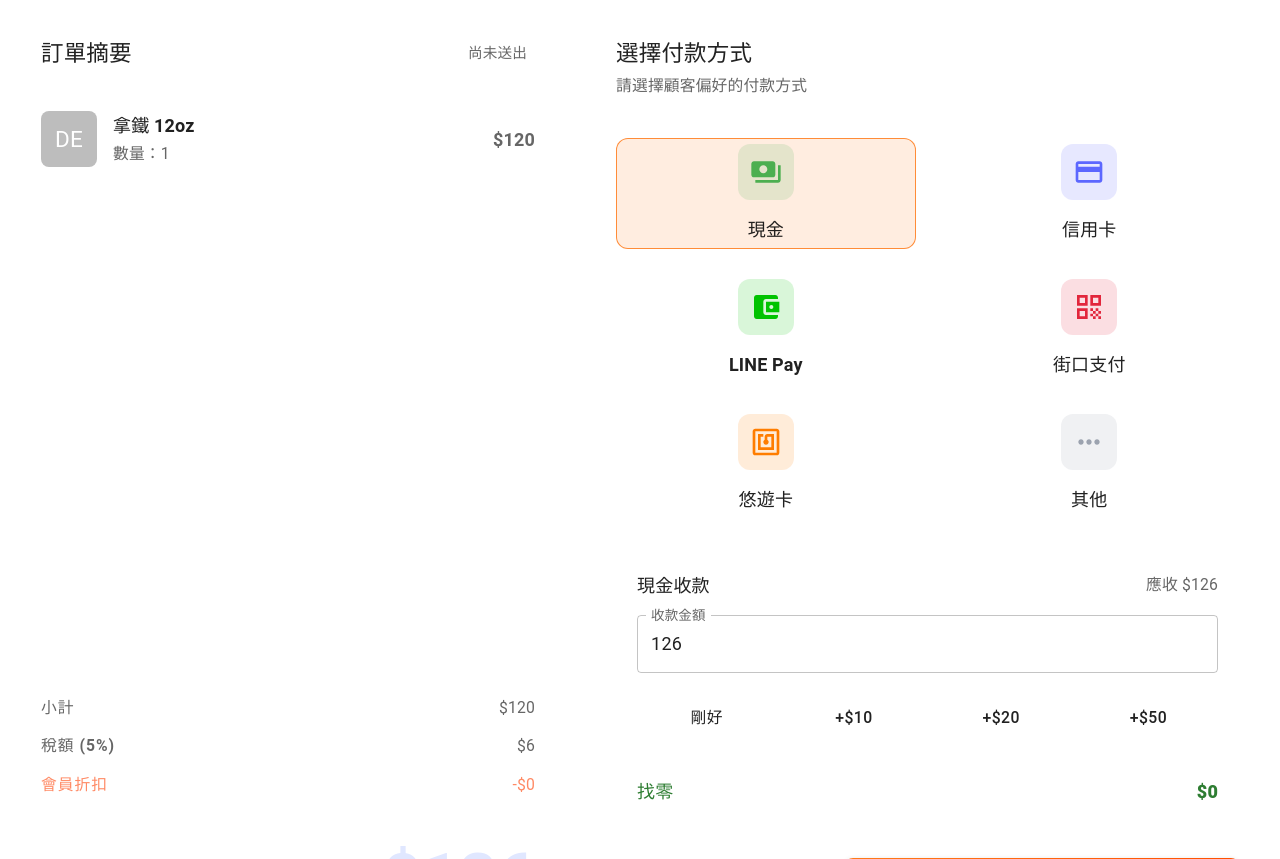
CheckoutPage cash payment › creates and completes an order with CASH tendered amount and clears the cart
The width and height of the screenshot is (1280, 859).
Replace the text in the number field labelled "收款金額" with "130" at (928, 644), box [637, 614, 1218, 673]
(page scrolled)
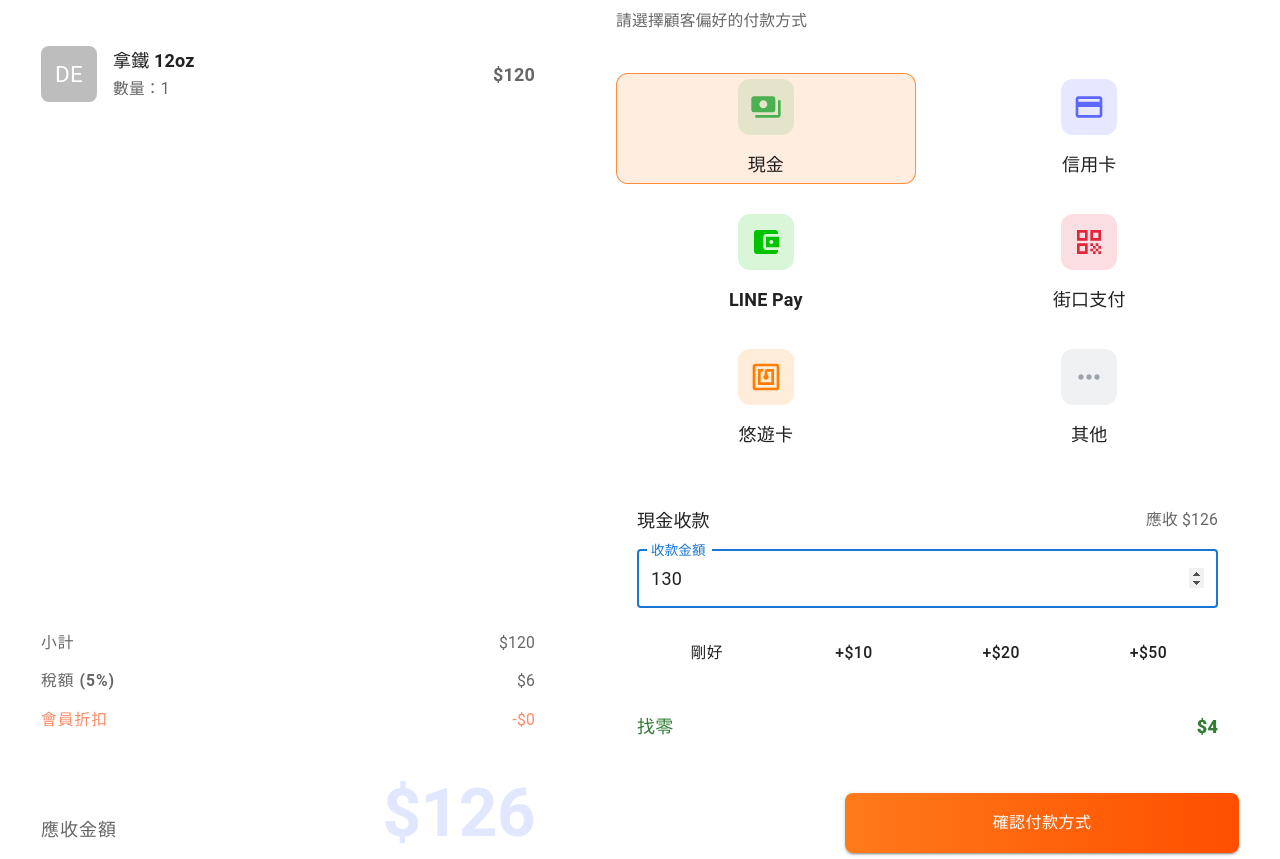
Click the button "確認付款方式" at (1042, 823), box [845, 793, 1239, 853]
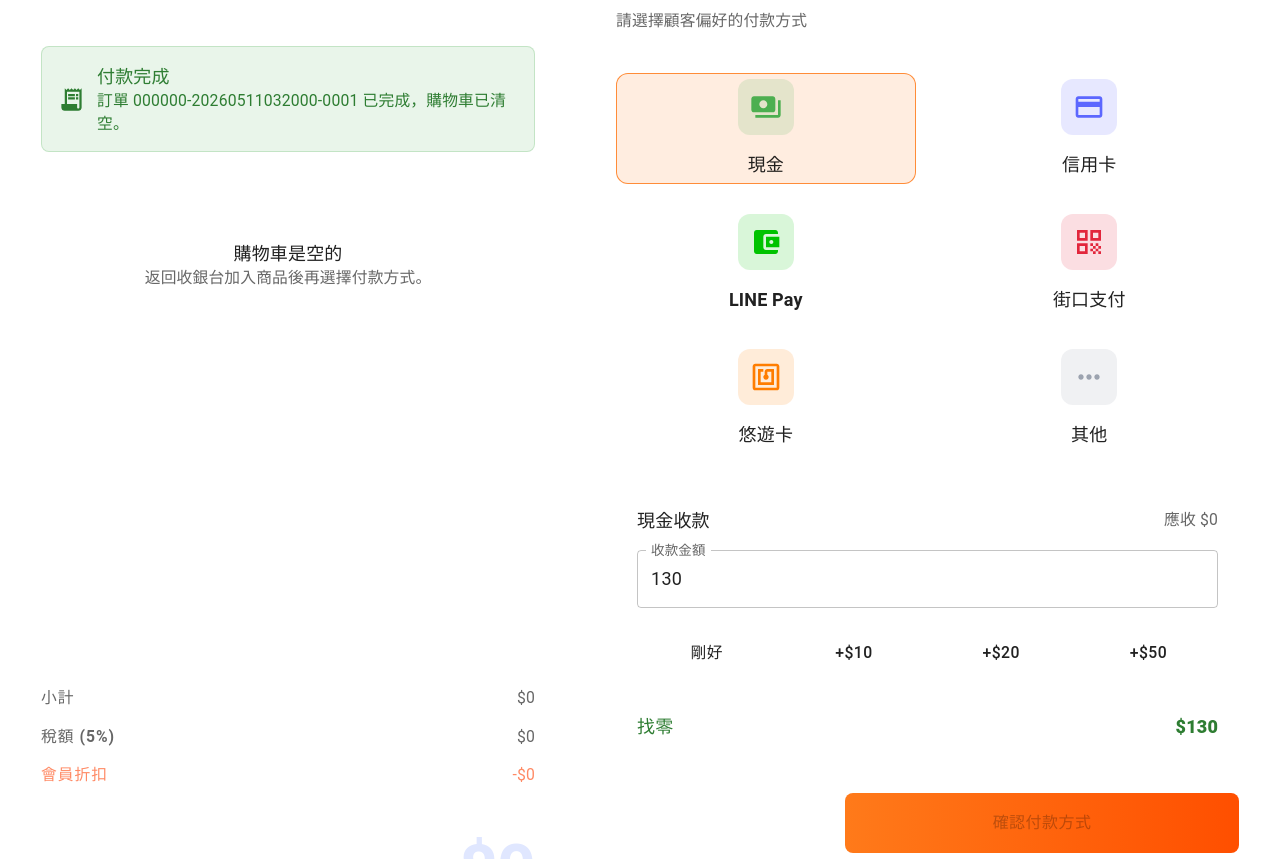
Now the text "付款完成" is shown, box [97, 66, 170, 87]
